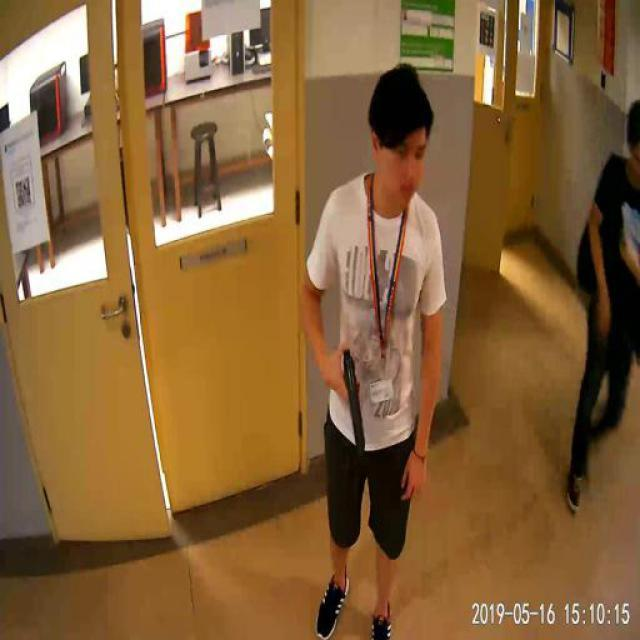weapon: (336, 348, 368, 468)
